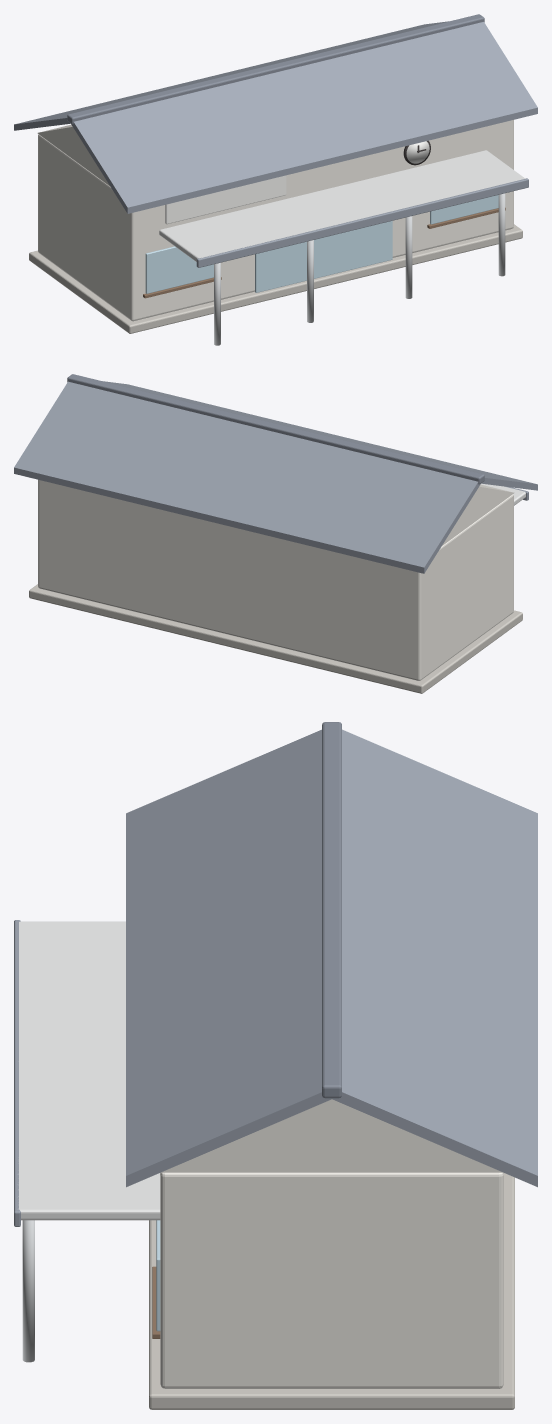
Rendered from station.glb.
The picture shows the model from 3 angles, top to bottom: view 1: azimuth 30°, elevation 25°; view 2: azimuth 150°, elevation 25°; view 3: azimuth 270°, elevation 25°; orthographic projection. The views are drawn at different scales.
Parts seen in each view (by area): view 1: station; view 2: station; view 3: station.
Boxes of the visible parts, x1=… form: station: x1=14, y1=14, x2=537, y2=345; station: x1=14, y1=374, x2=537, y2=693; station: x1=14, y1=722, x2=537, y2=1409.
Size of the model in its own units: 15.1 by 6.43 by 9.16.
